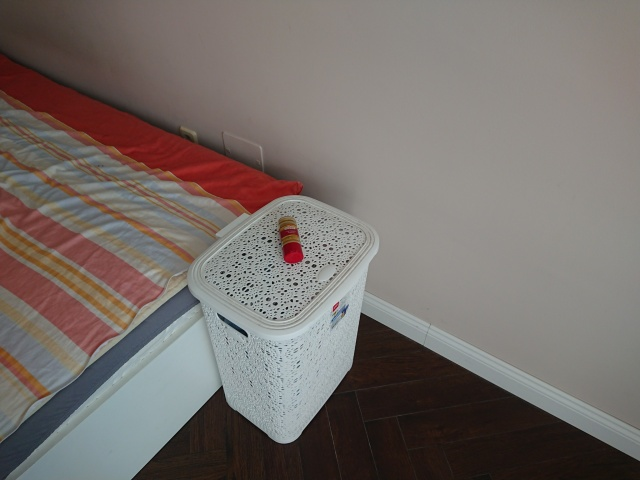Kotanyi Curry Spices Mix 70g: (276, 215, 306, 265)
